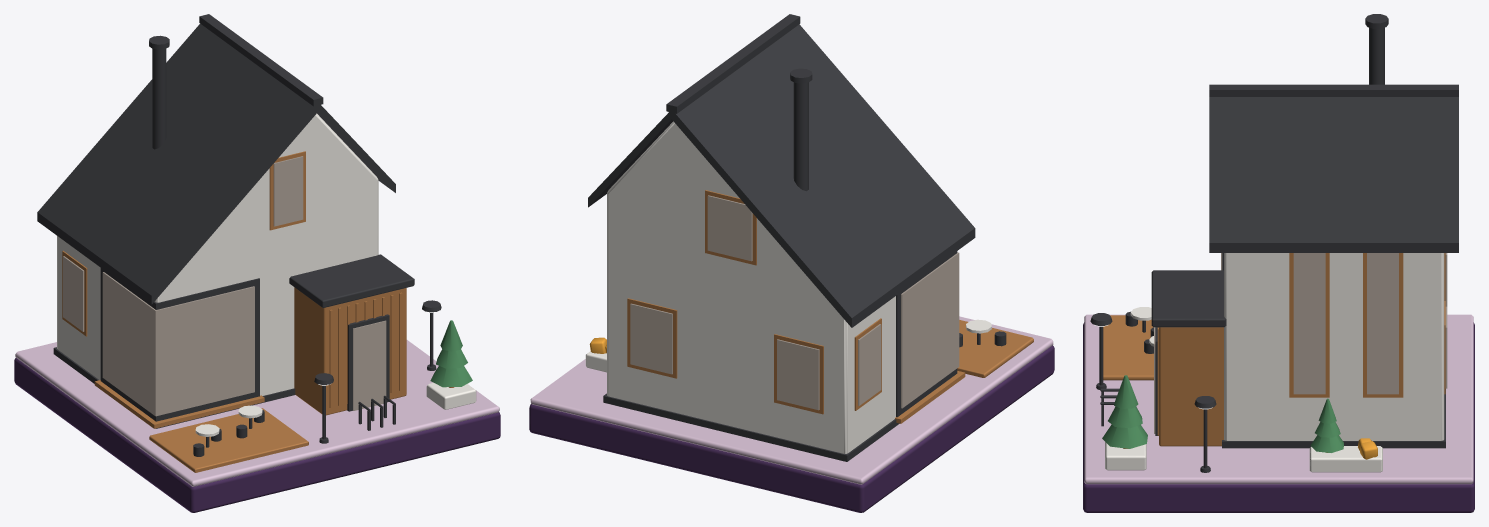
The model's file is modern_building_4_1Level_Demo.glb.
3 renders of one model, left to right at view 1: azimuth 30°, elevation 25°; view 2: azimuth 150°, elevation 25°; view 3: azimuth 270°, elevation 25°, orthographic. The views are drawn at different scales.
Parts seen in each view (by area): view 1: MB4_1_Roof1, MB4_1_Plaster1, MB4_1_Glass1, MB4_1_Oak, MB4_1_Paving, MB4_1_Base, MB4_1_Pine; view 2: MB4_1_Roof1, MB4_1_Plaster1, MB4_1_Glass1, MB4_1_Base, MB4_1_Paving, MB4_1_Oak; view 3: MB4_1_Roof1, MB4_1_Plaster1, MB4_1_Paving, MB4_1_Oak, MB4_1_Base, MB4_1_Glass1, MB4_1_Pine.
Part boxes in pixels (<box>): MB4_1_Roof1: <box>37,14,441,456</box>; MB4_1_Plaster1: <box>57,113,476,436</box>; MB4_1_Glass1: <box>63,156,386,416</box>; MB4_1_Oak: <box>62,151,454,472</box>; MB4_1_Paving: <box>15,340,499,486</box>; MB4_1_Base: <box>14,358,500,512</box>; MB4_1_Pine: <box>430,320,472,387</box>; MB4_1_Roof1: <box>588,14,1006,461</box>; MB4_1_Plaster1: <box>585,121,991,453</box>; MB4_1_Glass1: <box>630,195,959,410</box>; MB4_1_Base: <box>529,345,1054,512</box>; MB4_1_Paving: <box>530,316,1053,484</box>; MB4_1_Oak: <box>627,190,1033,423</box>; MB4_1_Roof1: <box>1090,14,1458,472</box>; MB4_1_Plaster1: <box>1105,253,1444,472</box>; MB4_1_Paving: <box>1084,314,1473,484</box>; MB4_1_Oak: <box>1103,253,1445,452</box>; MB4_1_Base: <box>1083,322,1474,512</box>; MB4_1_Glass1: <box>1154,253,1447,433</box>; MB4_1_Pine: <box>1102,375,1343,452</box>.
Bounding box in the file's own units: 3.2 × 3.47 × 3.2.
